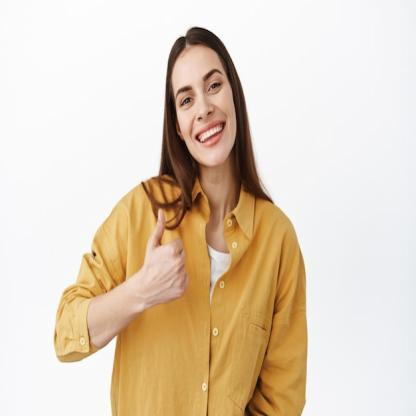thumb_up: (141, 206, 190, 308)
